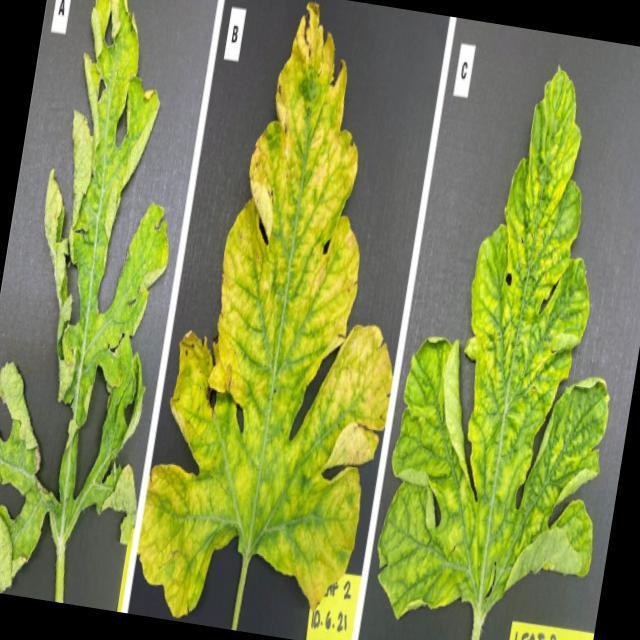Mosaic Virus: (152, 0, 433, 606), (366, 77, 640, 640), (0, 0, 204, 587)
